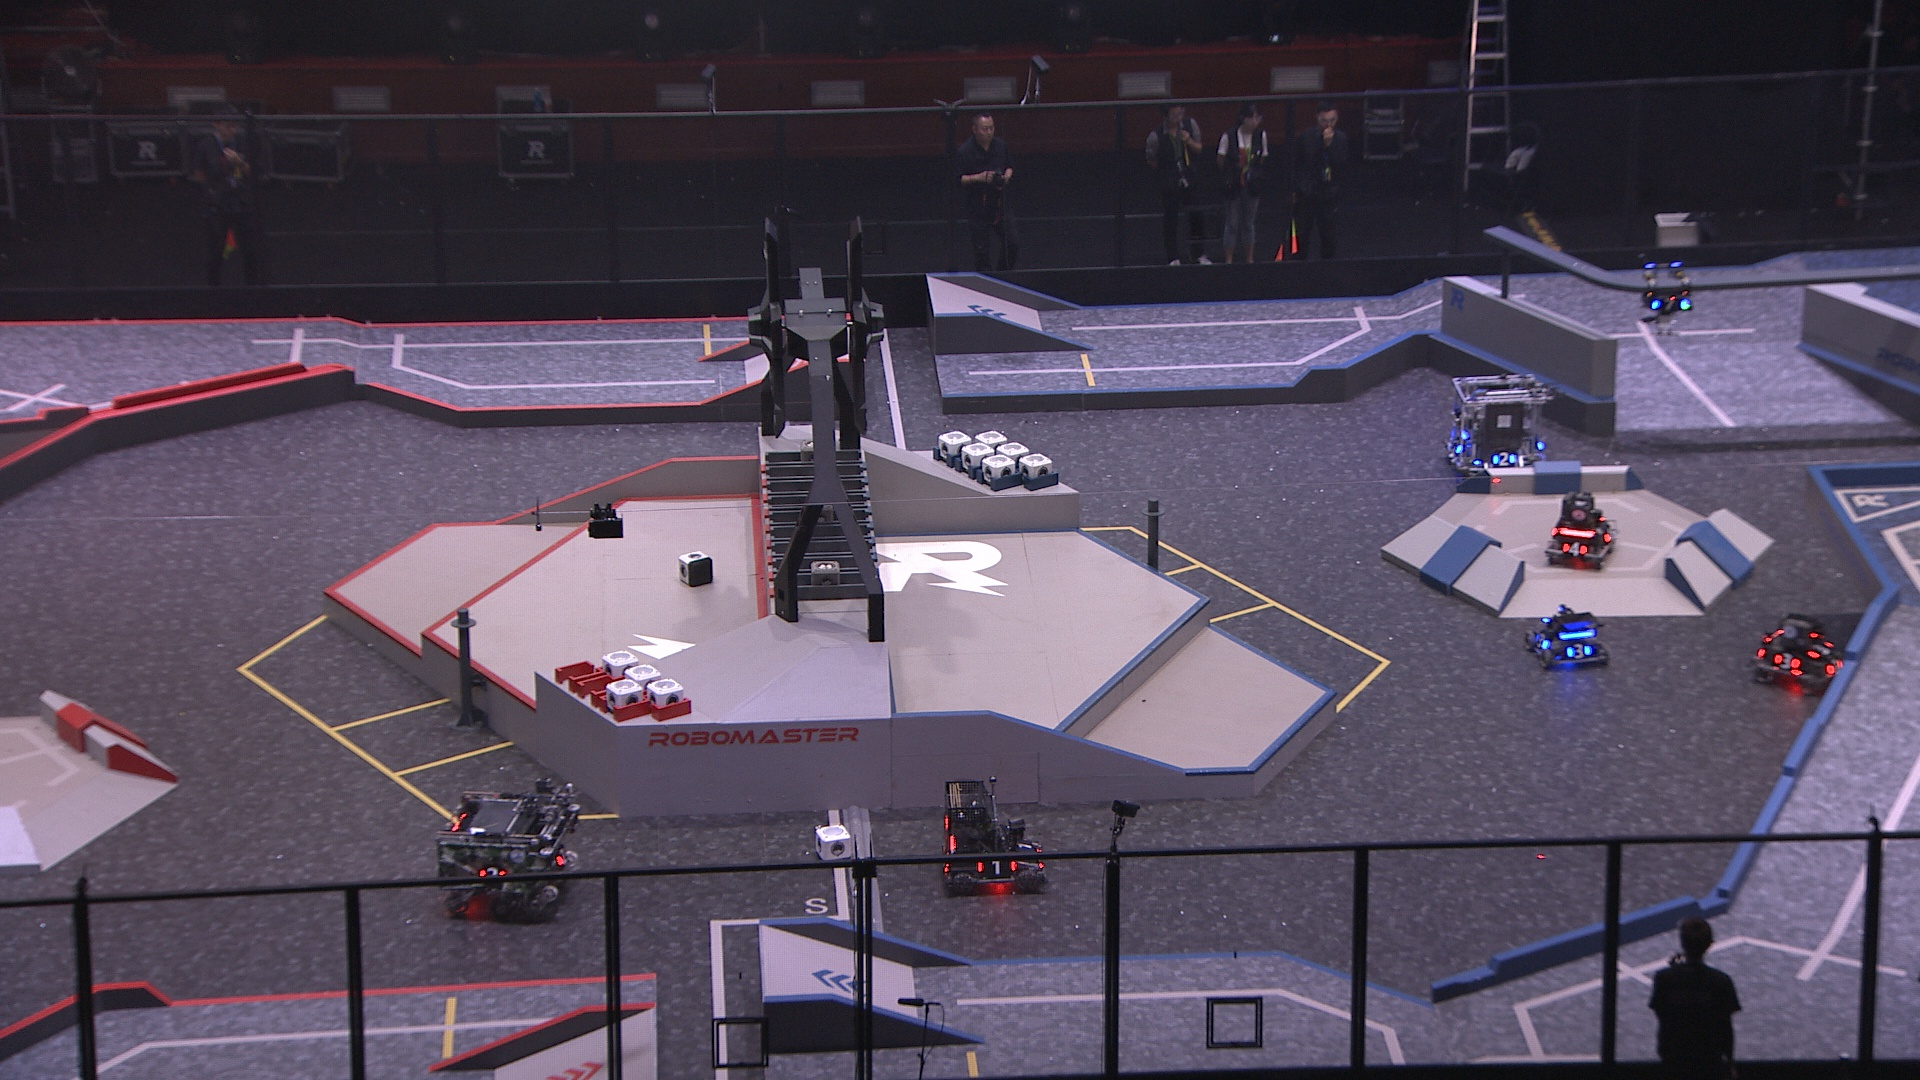armor: (971, 855, 1019, 876), (1650, 294, 1695, 315), (1804, 637, 1836, 661), (1557, 538, 1589, 560), (1774, 651, 1803, 673), (1490, 447, 1520, 467), (477, 865, 509, 884), (1826, 654, 1849, 678), (1564, 641, 1592, 659), (553, 847, 571, 870), (1011, 836, 1034, 855), (1532, 628, 1549, 651), (1453, 436, 1472, 458), (1031, 836, 1046, 855)
car: (434, 785, 582, 924), (938, 774, 1050, 899), (1447, 368, 1547, 477), (1751, 611, 1850, 695), (1523, 603, 1607, 674), (1542, 491, 1619, 567)
watcher: (1633, 252, 1698, 338)
